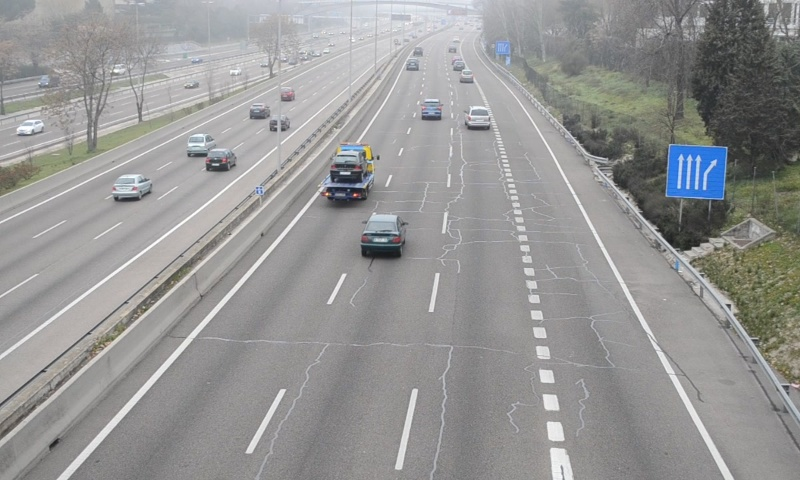car: (360, 214, 405, 252), (464, 105, 492, 128), (419, 98, 442, 119), (458, 69, 472, 82), (406, 57, 419, 70)
small-truck: (319, 142, 373, 200)
